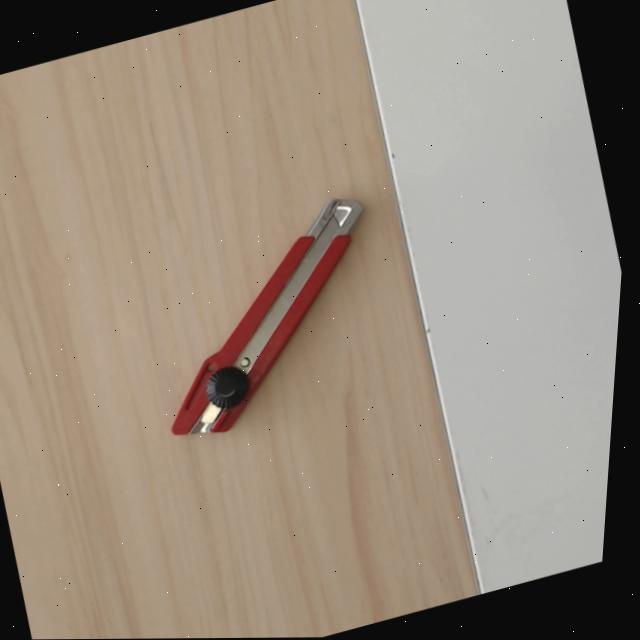Cutter-Besar: (160, 176, 371, 460)
